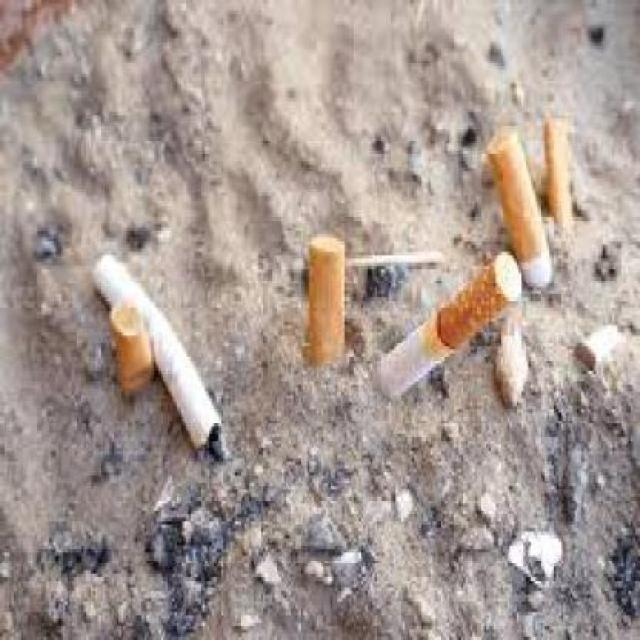cigarette: (96, 248, 244, 452), (395, 255, 534, 402), (479, 112, 538, 305), (542, 101, 592, 262), (307, 209, 355, 368), (93, 297, 152, 406)
